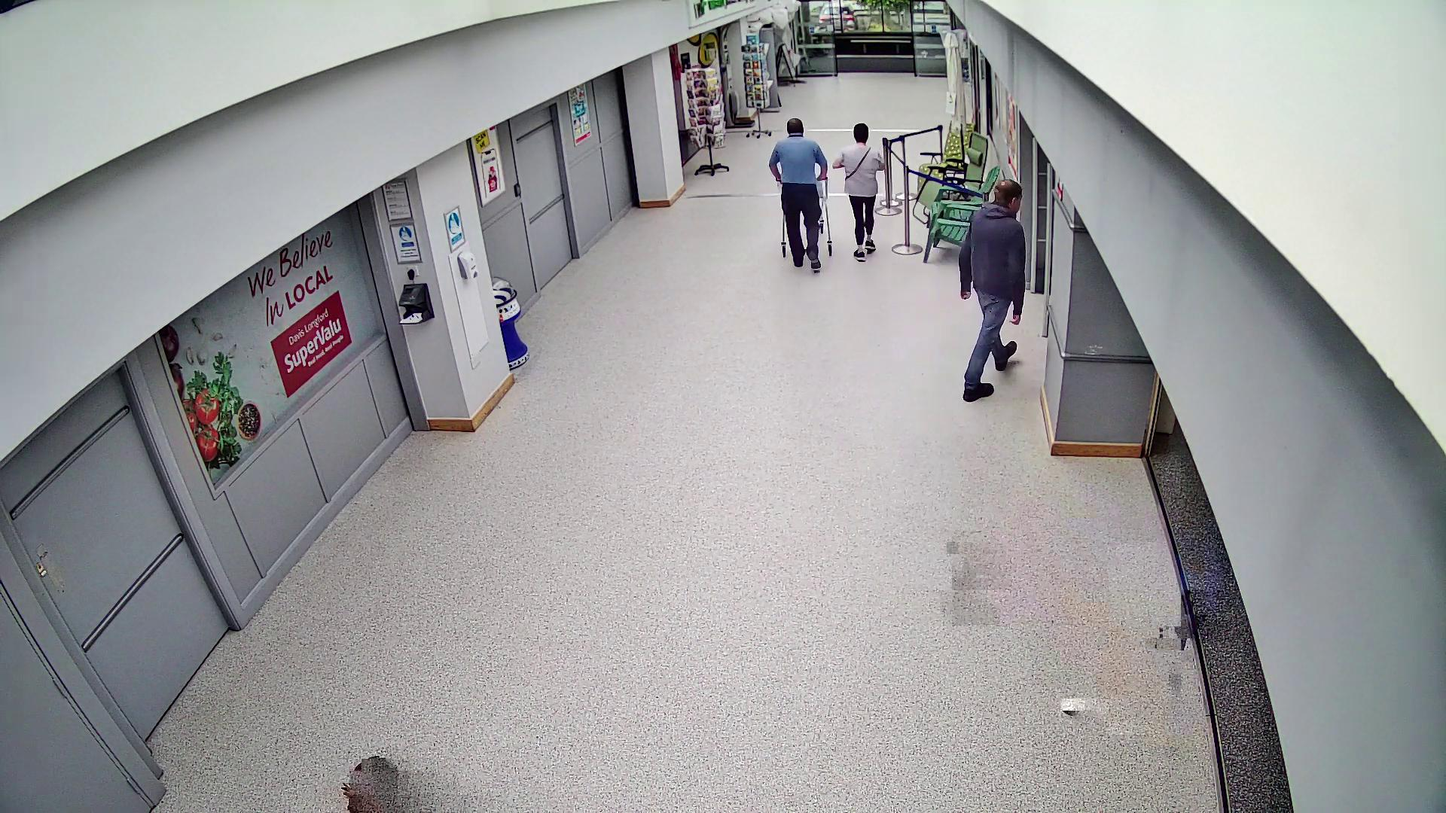filled-trolly: (776, 177, 834, 258)
person: (768, 117, 828, 273)
person-with-filled-basket-trolly: (767, 118, 833, 272)
